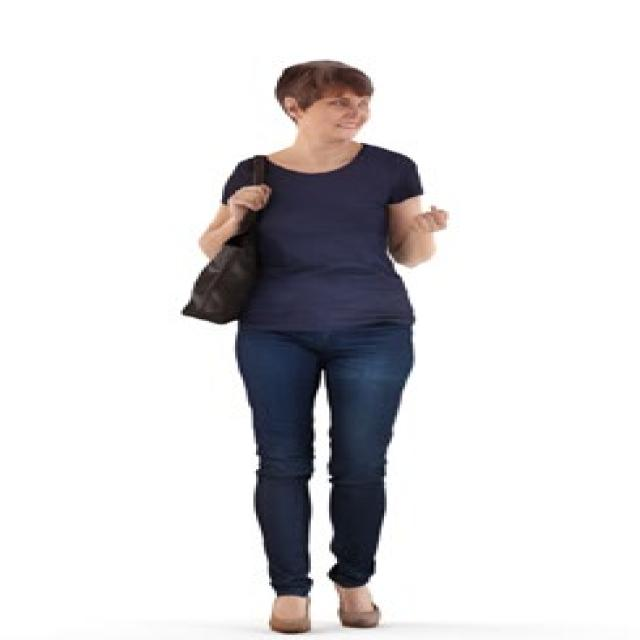standing: (189, 58, 462, 638)
